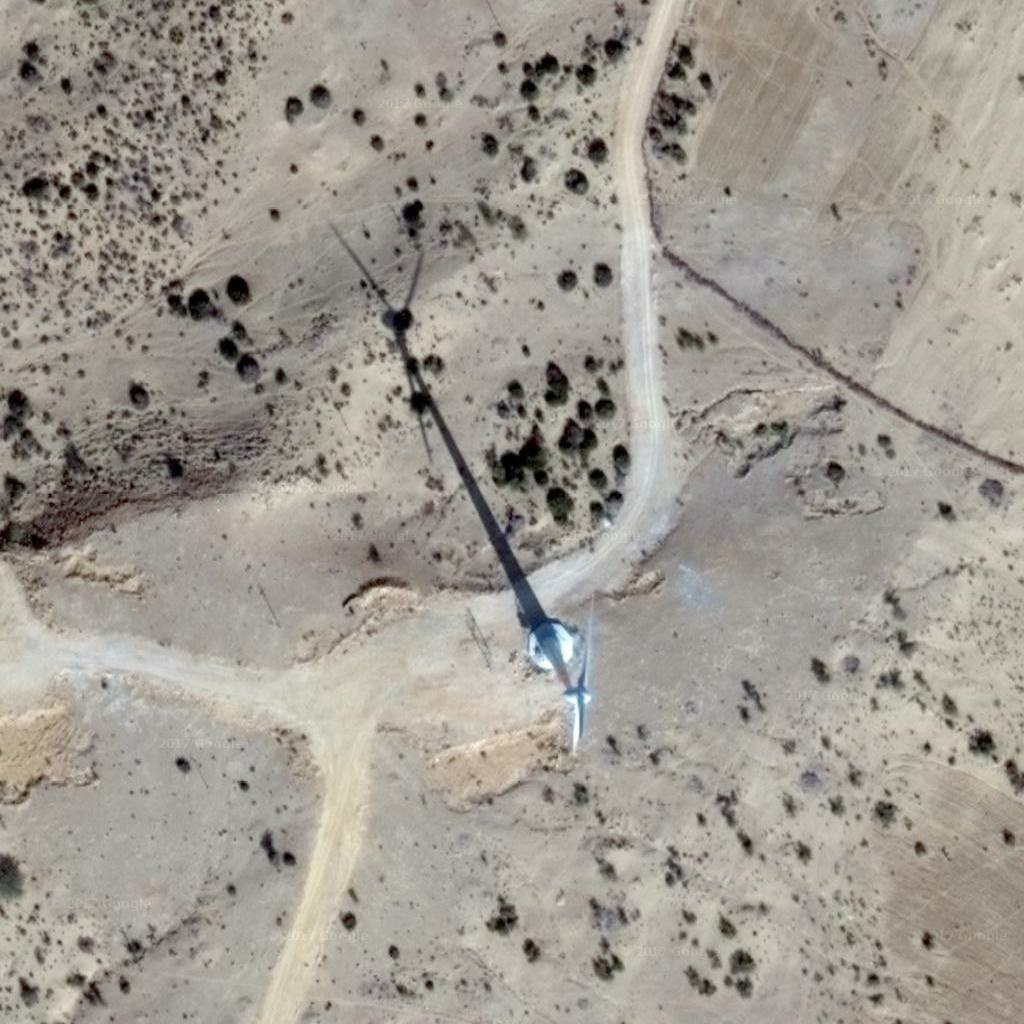Windmill: (321, 219, 565, 642)
